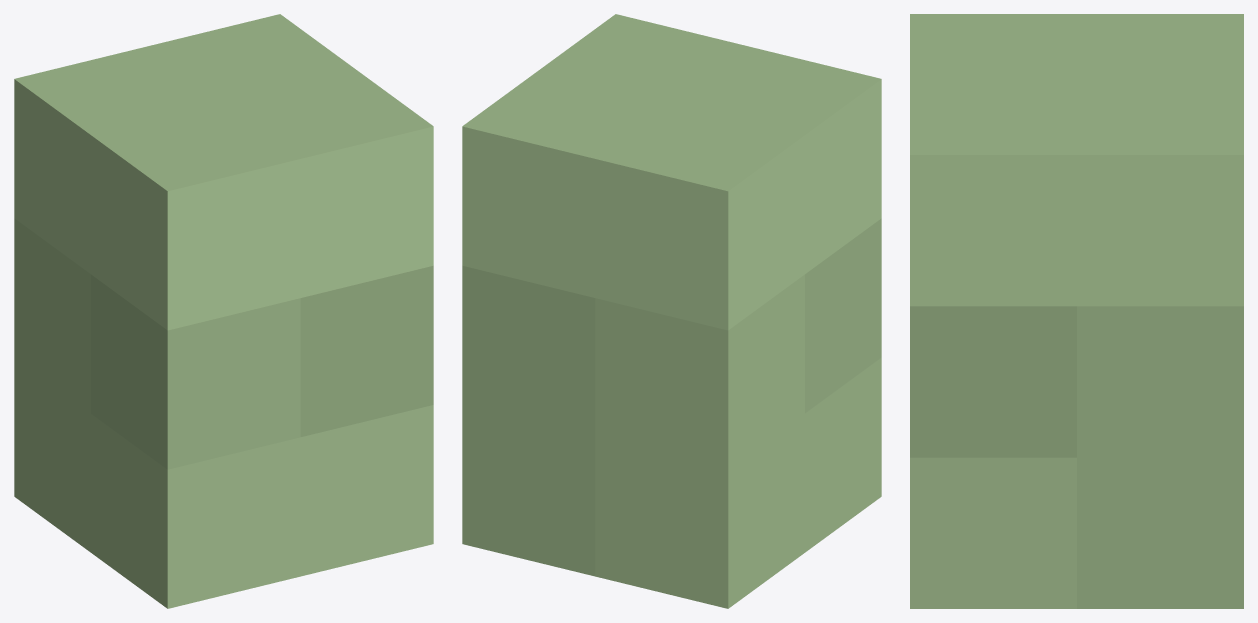
File: tree_ornament.v0.lite.glb
The picture shows the model from 3 angles, left to right: view 1: azimuth 30°, elevation 25°; view 2: azimuth 150°, elevation 25°; view 3: azimuth 270°, elevation 25°; orthographic projection. The views are drawn at different scales.
Visible parts, largest first — view 1: tree_ornament; view 2: tree_ornament; view 3: tree_ornament.
Part boxes in pixels (x1,y1,x2,y2): tree_ornament: [14, 14, 433, 608]; tree_ornament: [462, 14, 881, 608]; tree_ornament: [910, 14, 1243, 608].
Size of the model in its own units: 1 by 1.5 by 1.
